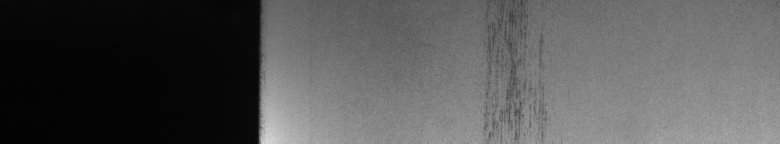ka: (478, 4, 548, 136)
